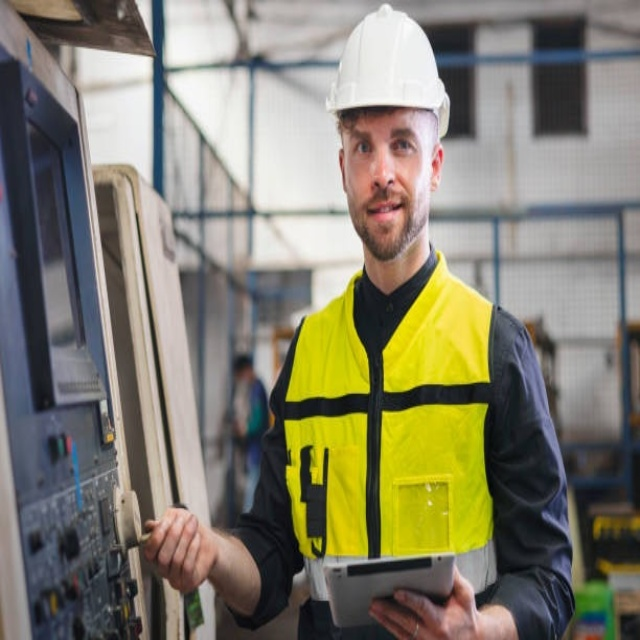Sin_gafas: (343, 119, 422, 168)
Sin_guantes: (372, 566, 490, 640), (142, 504, 218, 595)
Sin_mascara: (359, 185, 413, 240)
